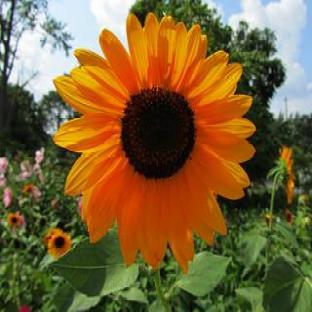sunflower: (53, 13, 257, 274)
